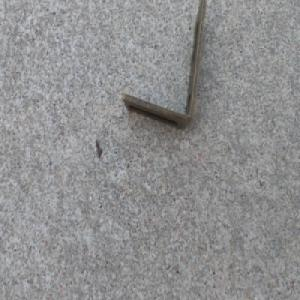MetalPart: (122, 0, 206, 130)
